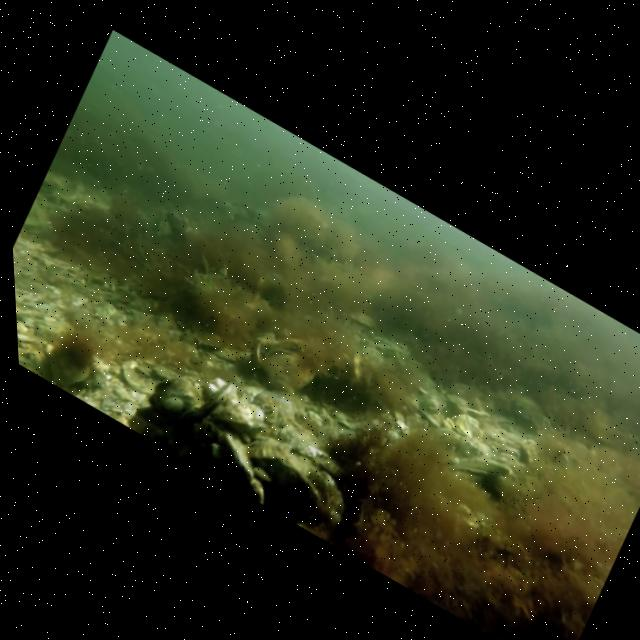Oyster-Closed: (260, 346, 320, 395), (250, 440, 306, 487), (207, 402, 275, 439), (179, 380, 239, 420), (217, 428, 255, 484), (439, 465, 493, 486)
Oyster-Indeterminate: (344, 303, 382, 336)
